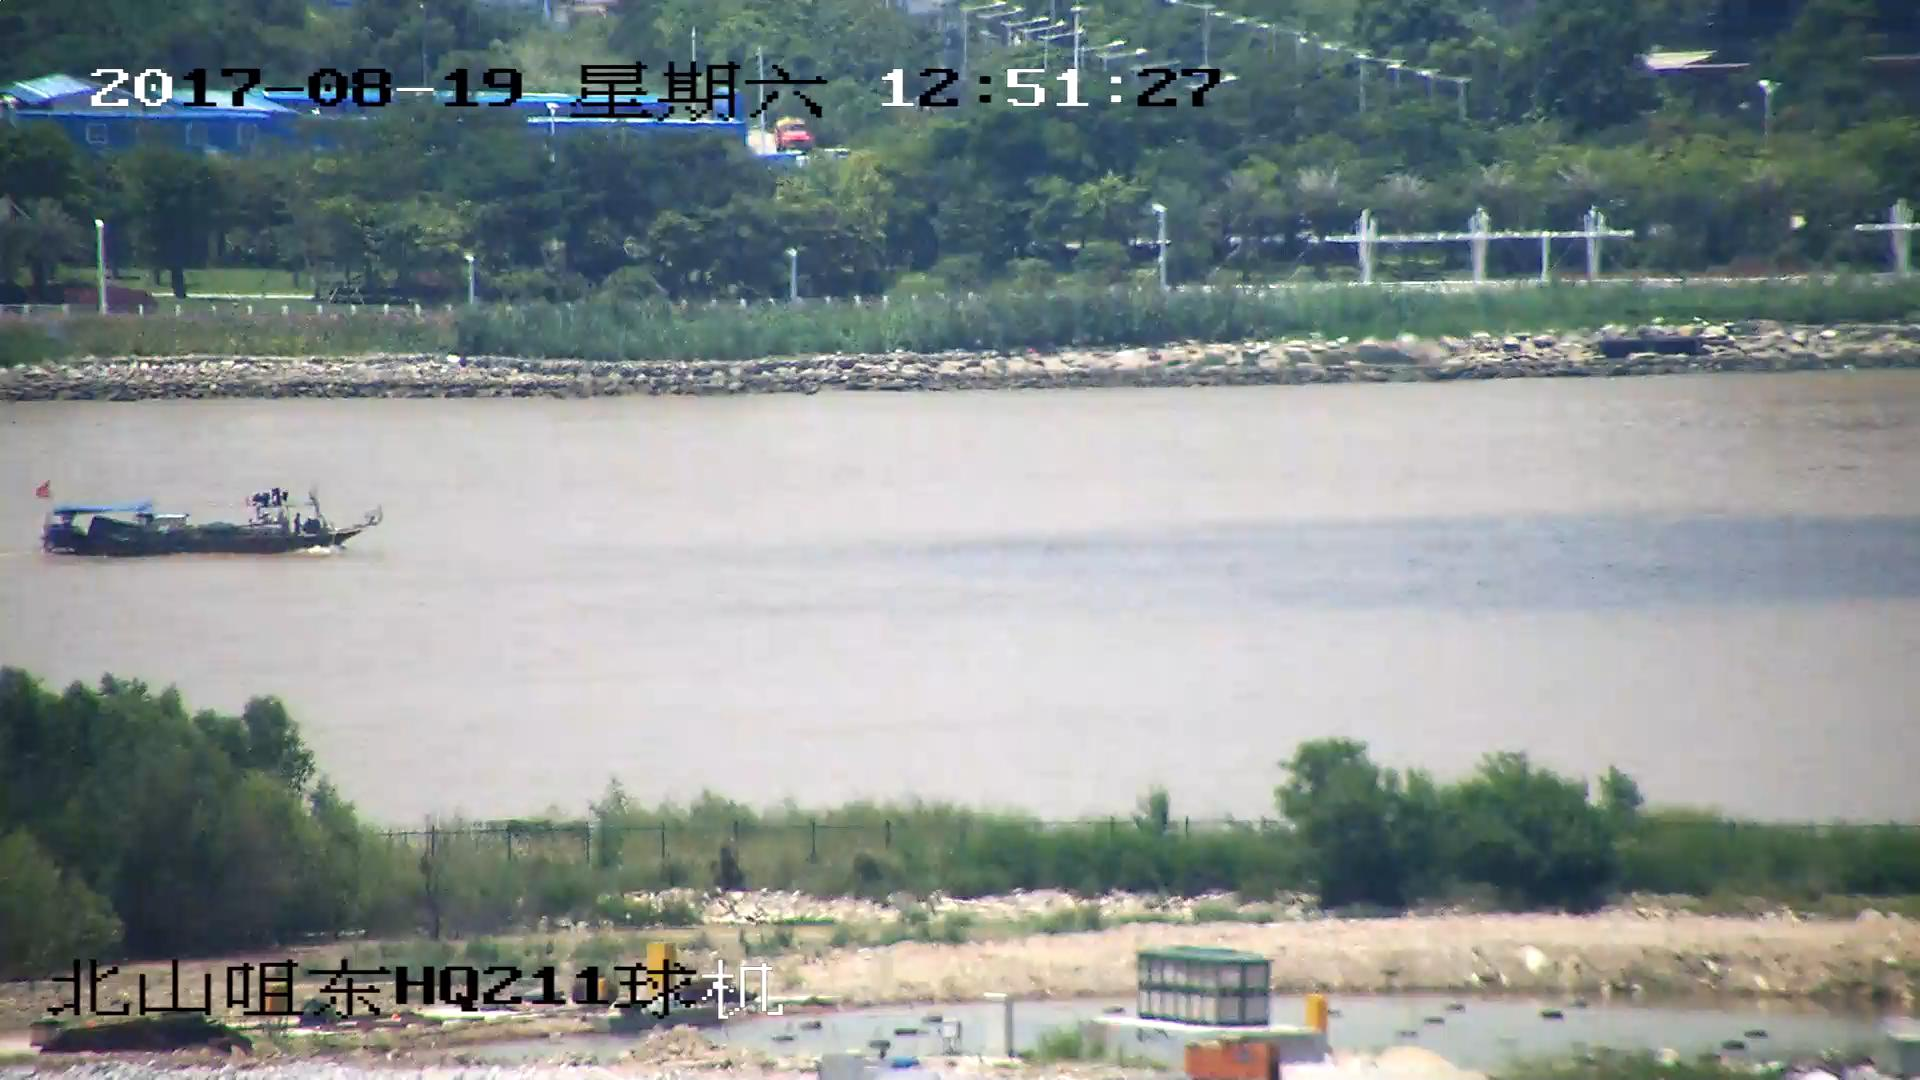fishing boat: (34, 477, 376, 559)
